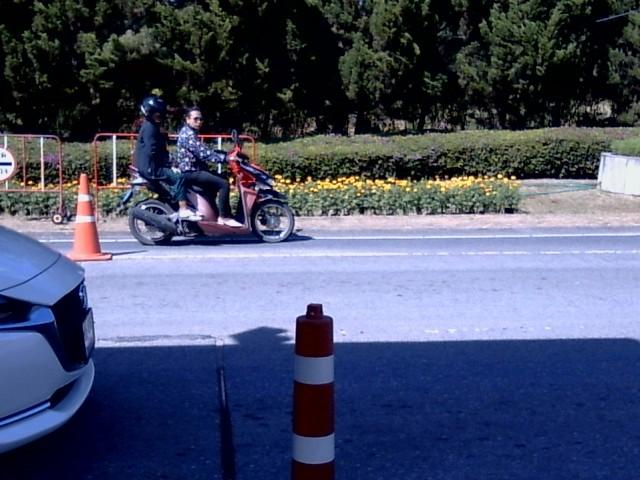helmet: (140, 95, 166, 122)
motor: (120, 130, 294, 244)
no-helmet: (183, 104, 206, 131)
person: (134, 95, 199, 219), (176, 107, 240, 227)
